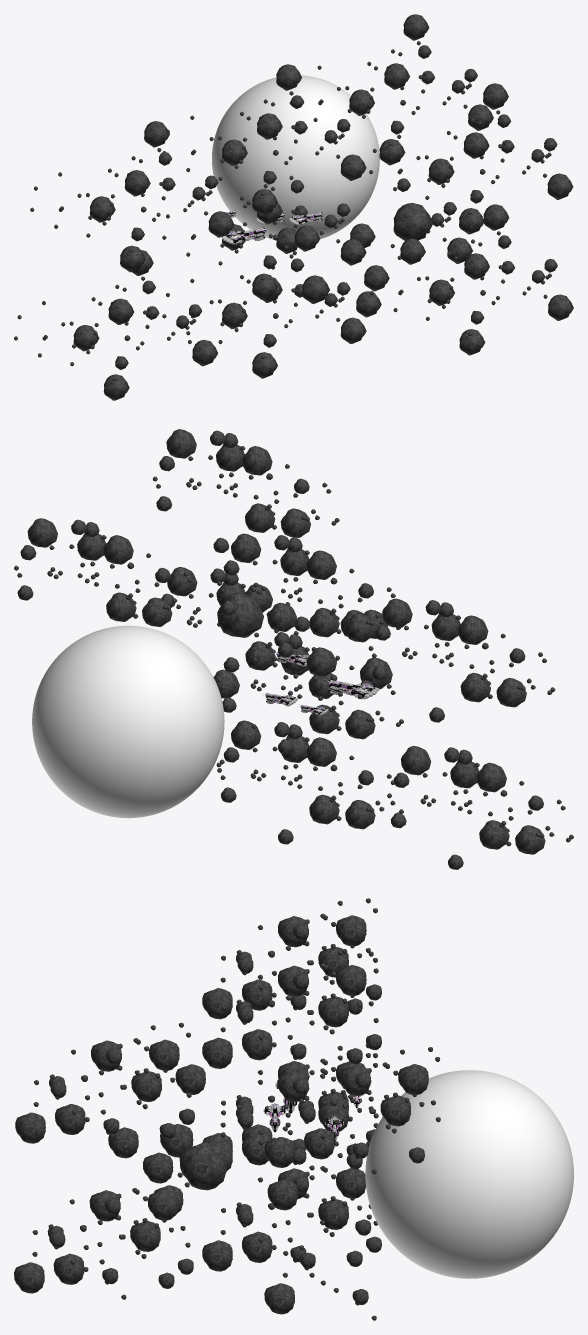
The model's file is mainScene.fbx.
3 renders of one model, top to bottom at view 1: azimuth 30°, elevation 25°; view 2: azimuth 150°, elevation 25°; view 3: azimuth 270°, elevation 25°, orthographic. The views are drawn at different scales.
Parts seen in each view (by area): view 1: EarthGlow, untitled__251_, untitled__288_, untitled__100_, untitled__244_, untitled__199_, untitled__247_, untitled__200_, untitled__344_, untitled__391_, untitled__152_, untitled__148_ (+31 smaller); view 2: EarthGlow, untitled__251_, untitled__148_, untitled__100_, untitled__151_, untitled__199_, untitled__196_, untitled__55_, untitled__343_, untitled__244_, untitled__340_, untitled__47_ (+27 smaller); view 3: EarthGlow, untitled__251_, untitled__148_, untitled__340_, untitled__388_, untitled__56_, untitled__296_, untitled__392_, untitled__244_, untitled__344_, untitled__104_, untitled__100_ (+28 smaller).
Boxes of the visible parts, <box> form: EarthGlow: <box>212,75,379,240</box>; untitled__251_: <box>393,202,433,240</box>; untitled__288_: <box>302,275,329,303</box>; untitled__100_: <box>276,64,301,90</box>; untitled__244_: <box>403,14,429,40</box>; untitled__199_: <box>108,298,134,324</box>; untitled__247_: <box>384,63,409,89</box>; untitled__200_: <box>192,339,218,366</box>; untitled__344_: <box>547,173,573,199</box>; untitled__391_: <box>464,253,489,279</box>; untitled__152_: <box>208,211,234,237</box>; untitled__148_: <box>144,121,169,147</box>; EarthGlow: <box>32,625,224,818</box>; untitled__251_: <box>217,592,263,637</box>; untitled__148_: <box>382,598,412,627</box>; untitled__100_: <box>231,533,261,562</box>; untitled__151_: <box>458,615,488,644</box>; untitled__199_: <box>476,762,506,792</box>; untitled__196_: <box>401,746,431,775</box>; untitled__55_: <box>306,737,336,766</box>; untitled__343_: <box>242,446,272,475</box>; untitled__244_: <box>27,518,57,547</box>; untitled__340_: <box>166,429,196,458</box>; untitled__47_: <box>306,647,336,676</box>; EarthGlow: <box>365,1070,573,1278</box>; untitled__251_: <box>179,1142,226,1190</box>; untitled__148_: <box>336,915,366,946</box>; untitled__340_: <box>149,1039,179,1070</box>; untitled__388_: <box>147,1189,178,1220</box>; untitled__56_: <box>202,1240,232,1271</box>; untitled__296_: <box>264,1283,294,1314</box>; untitled__392_: <box>14,1262,44,1293</box>; untitled__244_: <box>398,1064,428,1095</box>; untitled__344_: <box>15,1112,45,1143</box>; untitled__104_: <box>202,1037,232,1068</box>; untitled__100_: <box>336,965,366,995</box>.
Size of the model in its own units: 617479 by 342054 by 512191.
